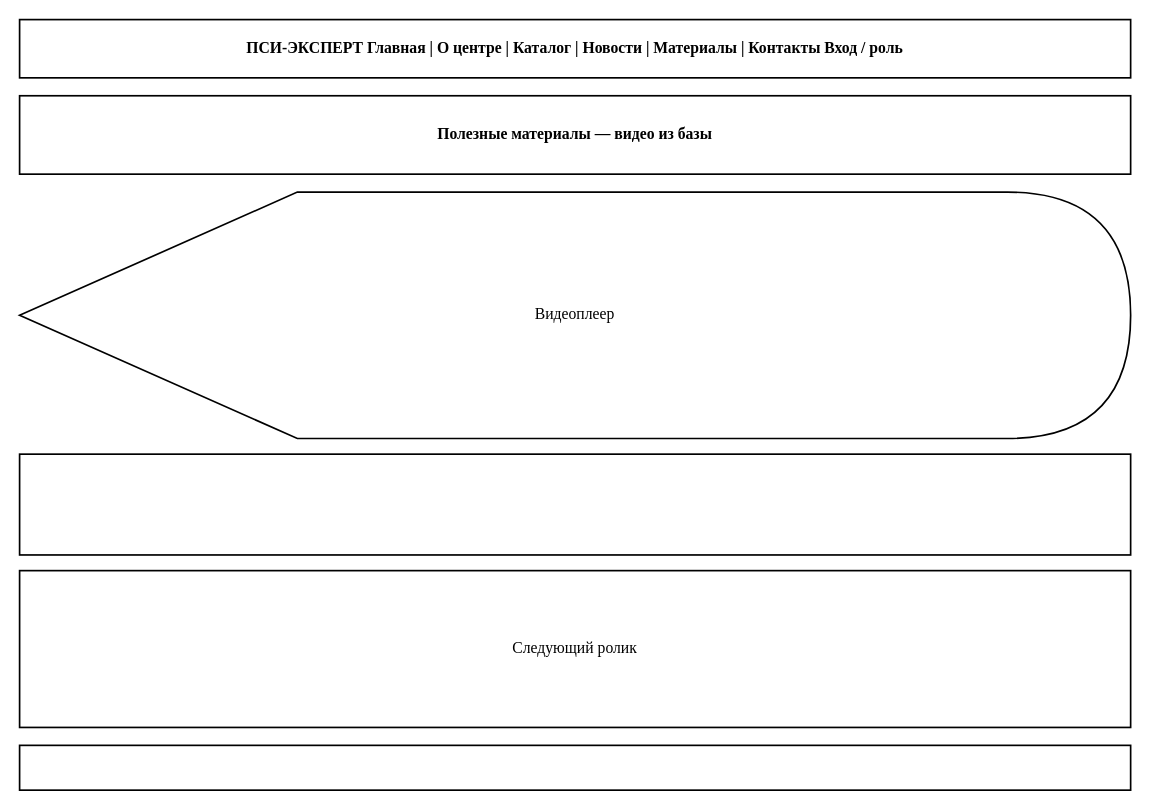
Image size: 1151x811. Some labels were removed from this diagram. Here are the shapes that lost their labels. From the top down, the centre of each, then its label:
At pixel 574 504: "Название и описание ролика".
At pixel 574 767: "Пси-Эксперт · Псков · телефон · разработчик сайта".
